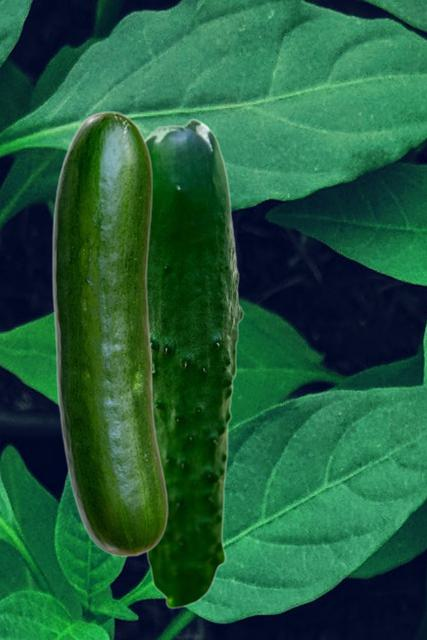cucumber: (51, 110, 167, 556), (144, 118, 243, 608)
